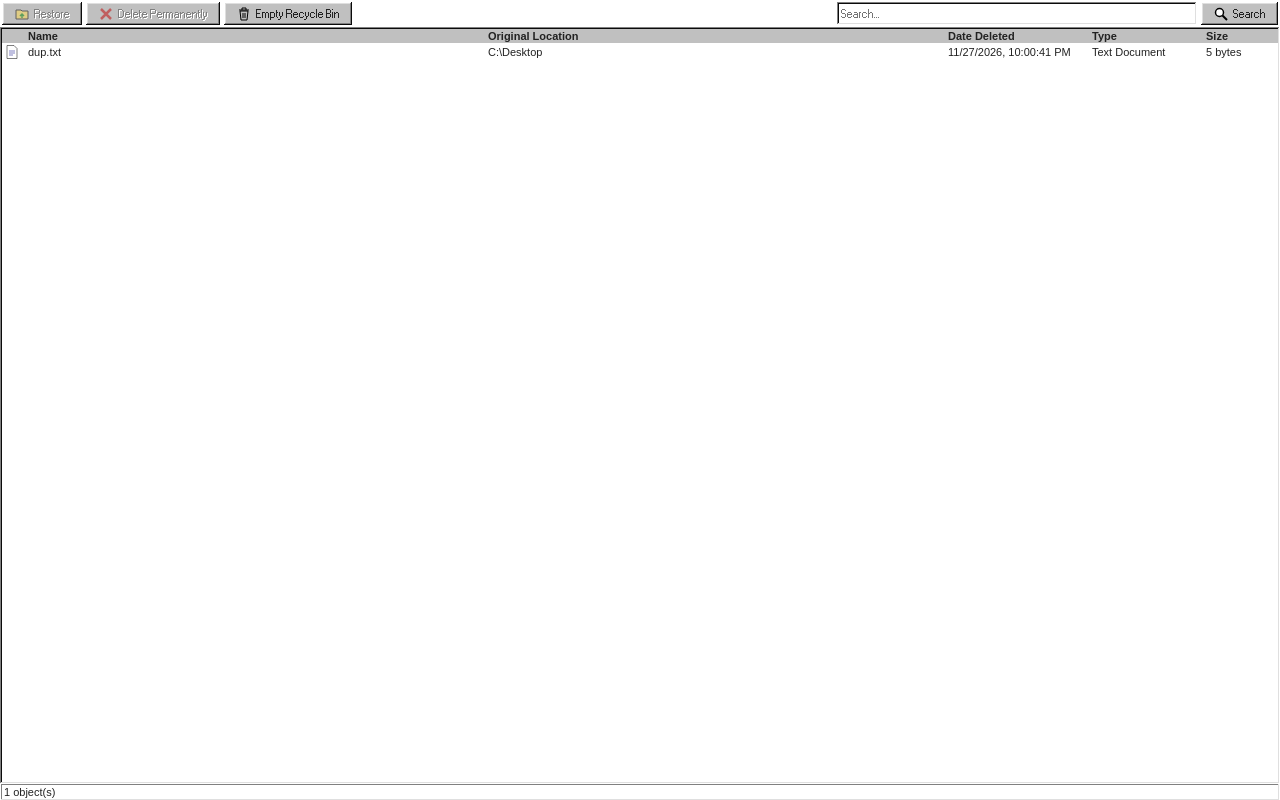
Test: Recycle Bin window › says so when the item went to the Desktop or was renamed
The image size is (1280, 800).
Press the mouse on the text "dup.txt" at point(44, 52), box [28,46,61,58]
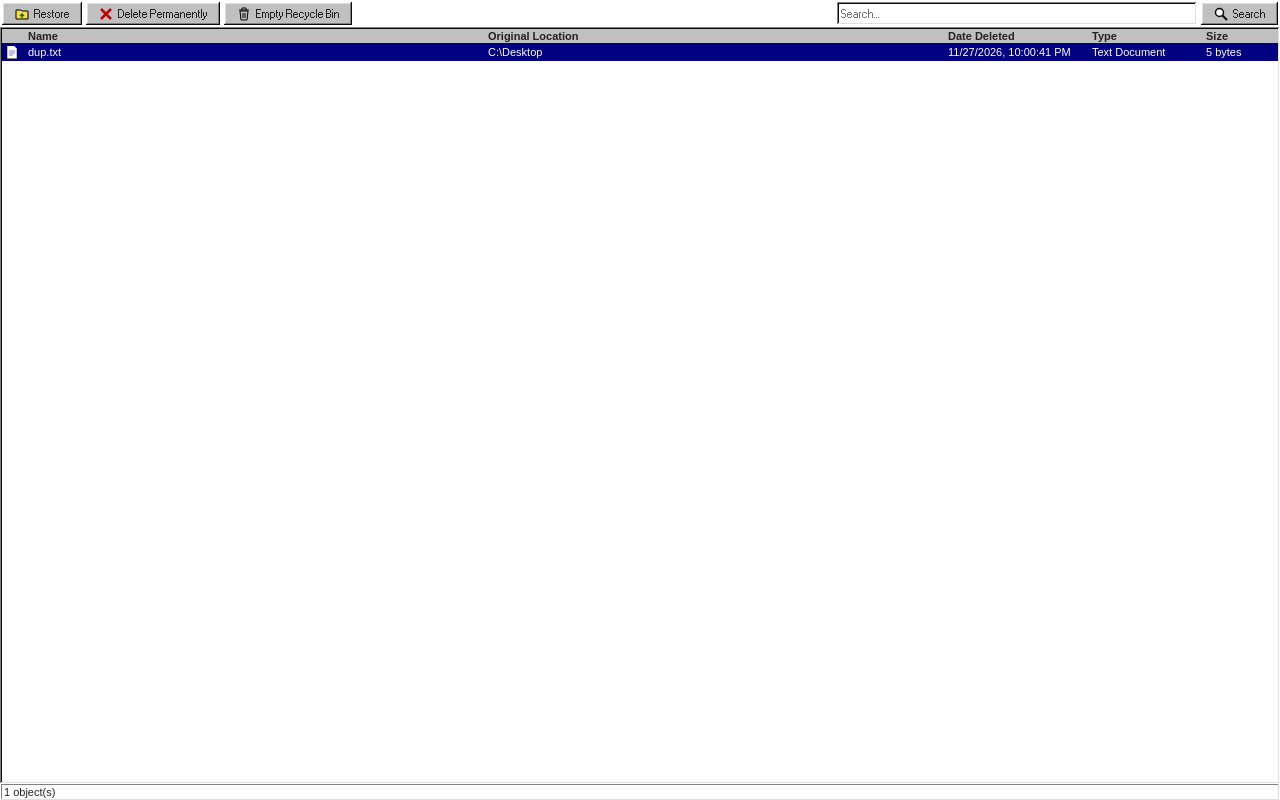
Click the button "Restore". click: point(42, 14)
box: [2,2,82,25]
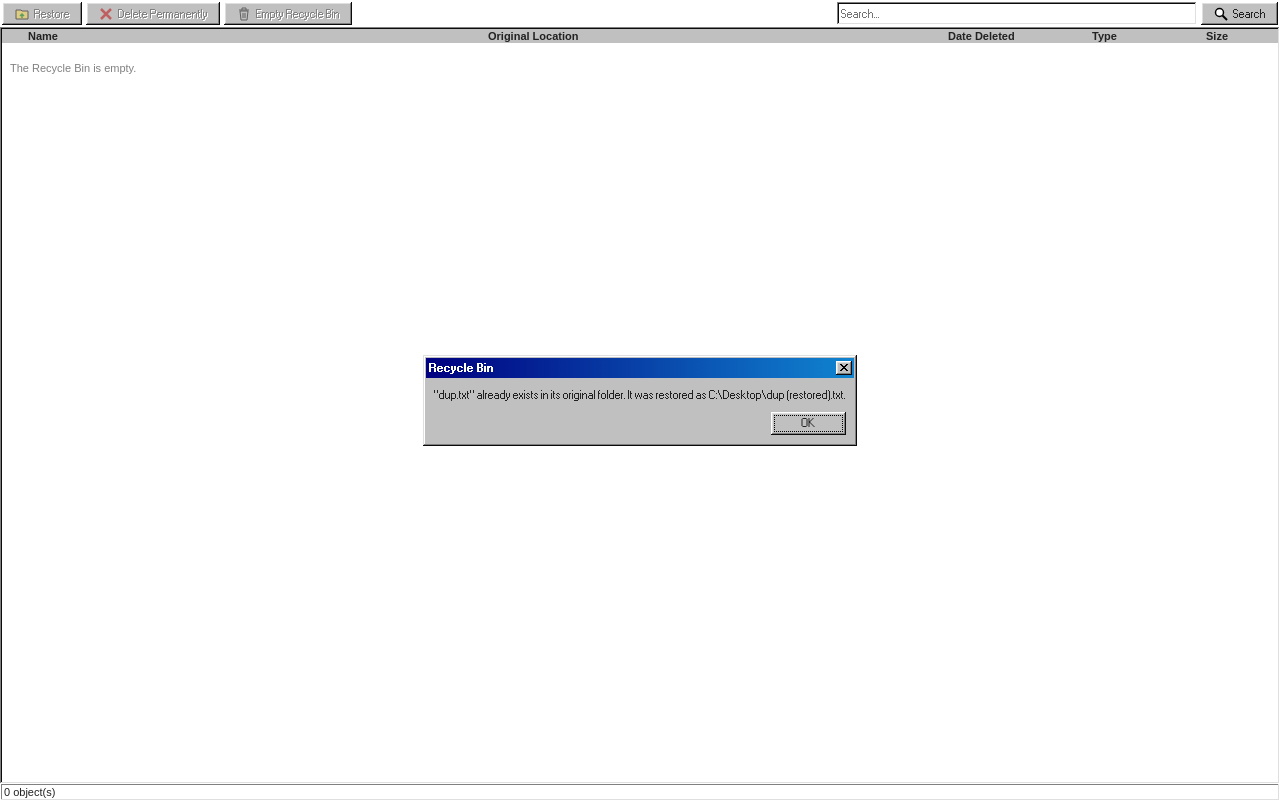
Expected: the message shows "dup (restored).txt", [434,388,846,400]
